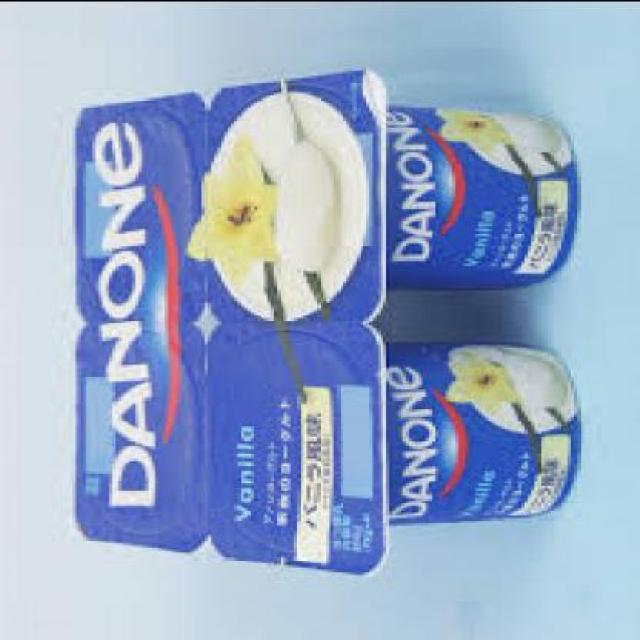PLASTIC: (72, 69, 577, 576), (201, 69, 577, 326), (204, 327, 574, 573)
